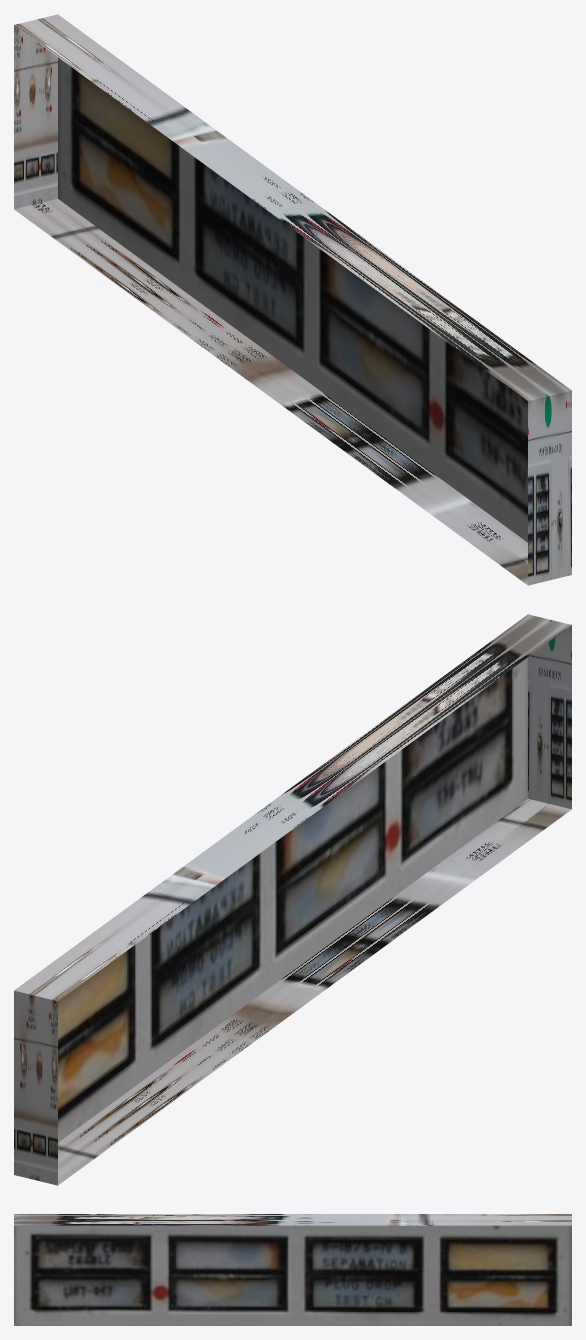
File: matPixleTest.fbx
The picture shows the model from 3 angles, top to bottom: view 1: azimuth 30°, elevation 25°; view 2: azimuth 150°, elevation 25°; view 3: azimuth 270°, elevation 25°; orthographic projection. The views are drawn at different scales.
Parts seen in each view (by area): view 1: pCube1; view 2: pCube1; view 3: pCube1.
Part boxes in pixels (x1,y1,x2,y2): pCube1: (14,14,571,585); pCube1: (14,614,571,1185); pCube1: (14,1214,571,1325).
Bounding box in the file's own units: 1 × 4.01 × 20.27.
Materials: 1 (1 with a texture image).
